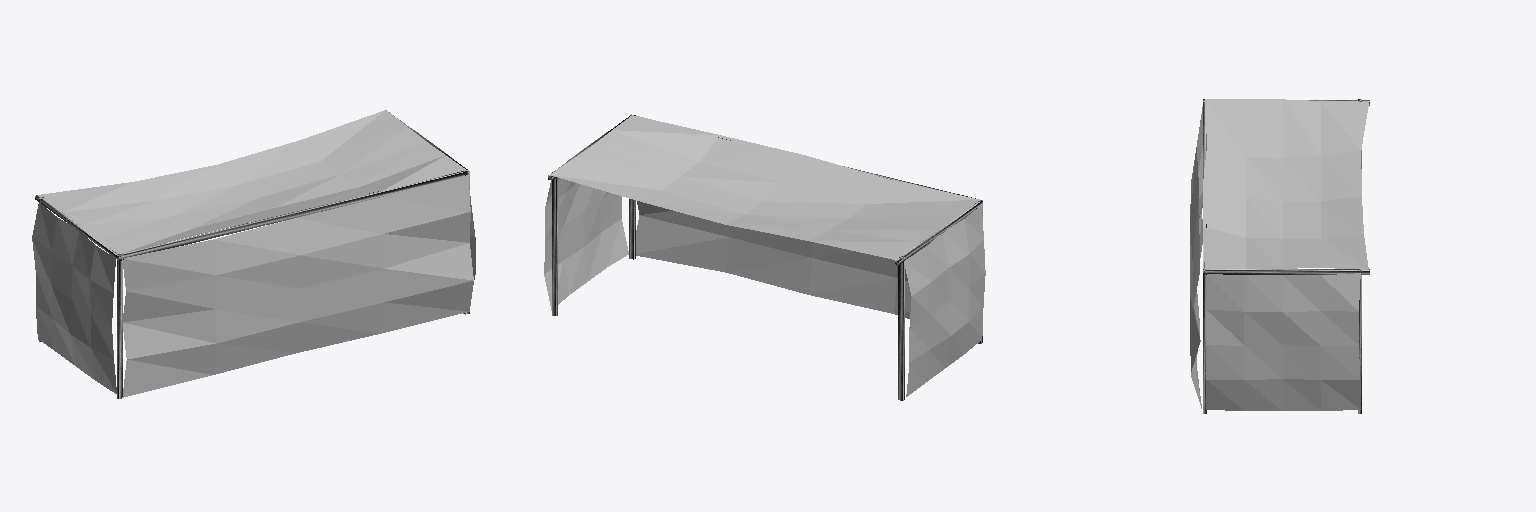
The picture shows the model from 3 angles: view 1: azimuth 30°, elevation 25°; view 2: azimuth 150°, elevation 25°; view 3: azimuth 270°, elevation 25°; orthographic projection.
Parts seen in each view (by area): view 1: Plane.002, Plane.003, Plane.001, Cube.002_Cube.003, Cube.001_Cube.002; view 2: Plane.003, Plane.002, Plane.001, Plane, Cube.004_Cube.005, Cube.003_Cube.004; view 3: Plane.003, Plane, Plane.002, Cube.006_Cube.007.
Part boxes in pixels (x1,y1,x2,y2): Plane.002: (122,175,473,397); Plane.003: (38,110,465,253); Plane.001: (32,202,116,393); Cube.002_Cube.003: (119,171,464,260); Cube.001_Cube.002: (117,254,122,398); Plane.003: (550,115,979,259); Plane.002: (636,201,975,318); Plane.001: (904,205,985,396); Plane: (544,132,628,310); Cube.004_Cube.005: (898,256,904,400); Cube.003_Cube.004: (552,171,557,315); Plane.003: (1203,99,1368,269); Plane: (1206,273,1360,410); Plane.002: (1190,107,1202,408); Cube.006_Cube.007: (1203,269,1369,274).
Size of the model in its own units: 10.8 by 4.04 by 4.57.
2 materials, 1 textured.